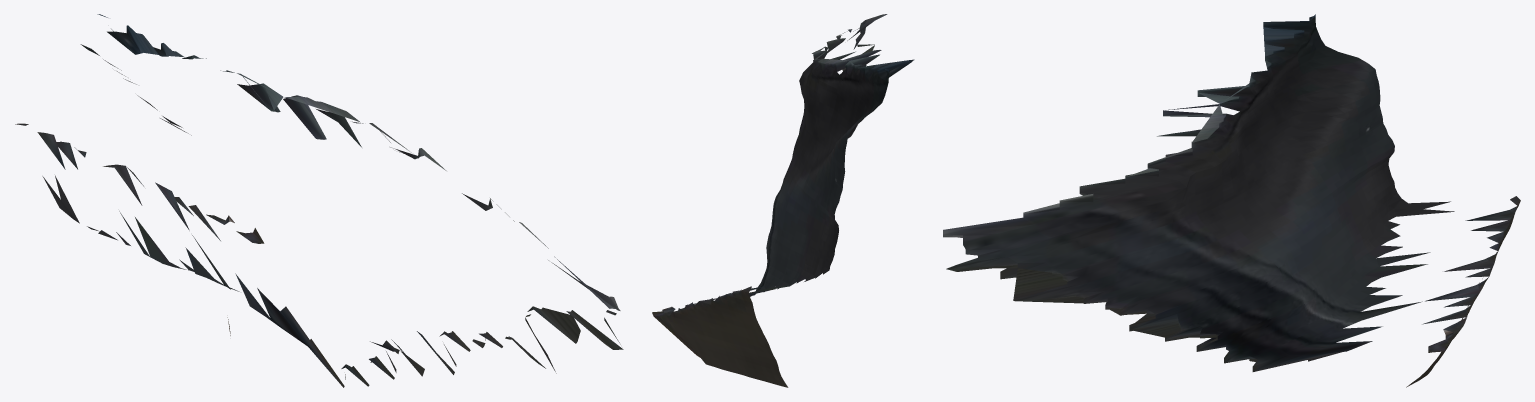
File: observed-surface.glb
3 renders of one model, left to right at view 1: azimuth 30°, elevation 25°; view 2: azimuth 150°, elevation 25°; view 3: azimuth 270°, elevation 25°, orthographic. The views are drawn at different scales.
Parts seen in each view (by area): view 1: geometry_0; view 2: geometry_0; view 3: geometry_0.
Boxes of the visible parts, x1,y1,x2,y2 form: geometry_0: (15,14,623,387); geometry_0: (652,14,914,387); geometry_0: (943,14,1520,387).
Size of the model in its own units: 0.3762 by 0.531 by 0.9137.
1 material, 1 textured.
